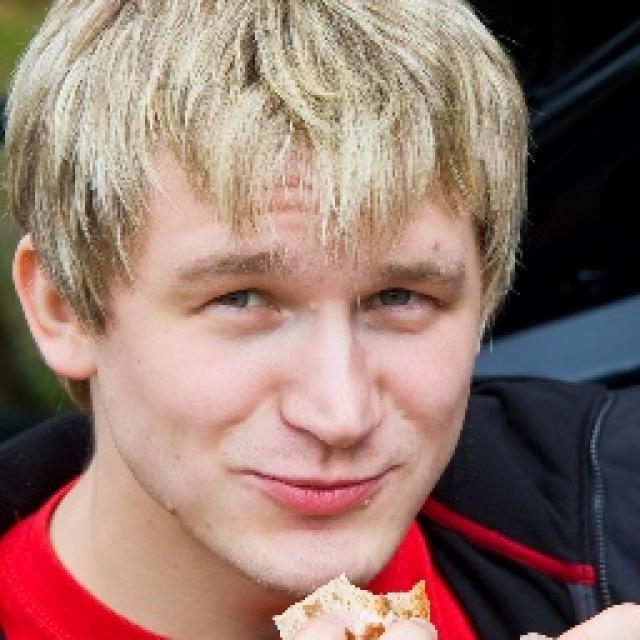earlobe: (47, 320, 95, 380)
eye: (359, 283, 438, 314), (206, 285, 280, 316)
nose: (277, 419, 376, 471)
wholeear: (13, 234, 95, 381)
